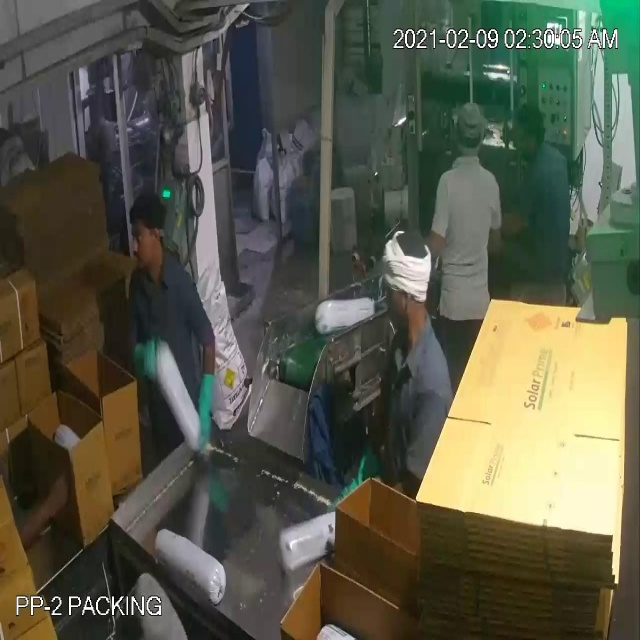Guantes: (190, 359, 225, 465), (120, 329, 170, 388)
Sin_guantes: (13, 448, 81, 567)
